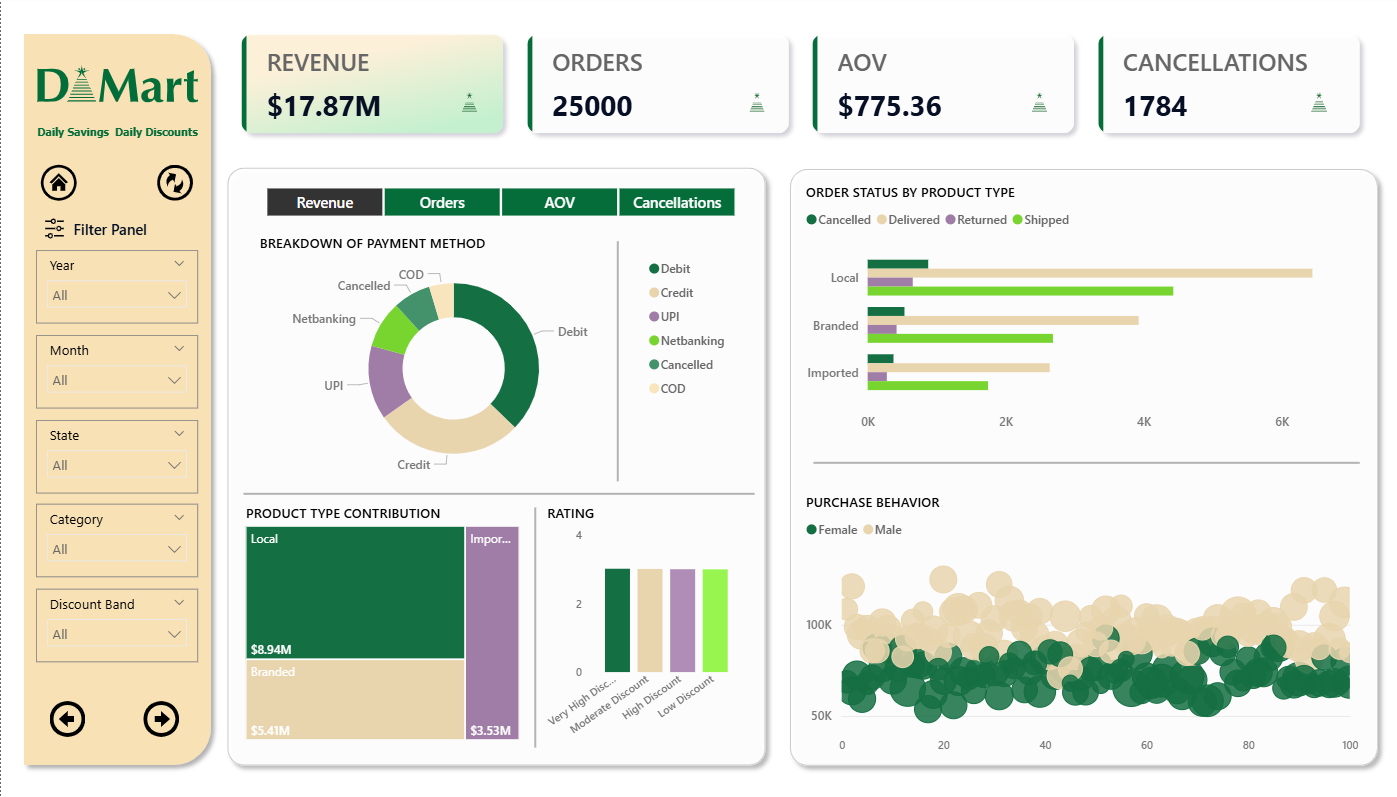

What the dashboard file says about the page in this screenshot:
{"tool":"powerbi","page":{"name":"Page 2","canvas":[1400,800],"ordinal":1},"visuals":[{"type":"shape","box":[13.5,25.5,205.6,750.4],"z":0},{"type":"image","box":[31.5,39,171.1,91.6],"z":1000},{"type":"textbox","box":[31.3,116.8,171.2,34],"z":2000},{"type":"shape","box":[218,159,557.1,616.9],"z":3000},{"type":"shape","box":[782,160,607,616],"z":4000},{"type":"clusteredColumnChart","title":"RATING","fields":{"Category":["Dmart+Dataset_Tableau (1).Discount Band"],"Y":["Avg(Dmart+Dataset_Tableau (1).Rating)"]},"box":[542.1,504.1,205.2,241.8],"z":5000},{"type":"scatterChart","title":"PURCHASE BEHAVIOR","fields":{"Y":["Sum(Dmart+Dataset_Tableau (1).Sales)"],"Size":["Avg(Dmart+Dataset_Tableau (1).Time Spent on Website)"],"X":["Dmart+Dataset_Tableau (1).No of Clicks"],"Series":["Dmart+Dataset_Tableau (1).Gender"]},"box":[802,494,564,270.4],"z":6000},{"type":"clusteredBarChart","title":"ORDER STATUS BY PRODUCT TYPE","fields":{"Category":["Dmart+Dataset_Tableau (1).Category"],"Series":["Dmart+Dataset_Tableau (1).Order Status"],"Y":["CountNonNull(Dmart+Dataset_Tableau (1).Order ID)"]},"box":[802,183,564,258.2],"z":7000},{"type":"donutChart","title":"BREAKDOWN OF PAYMENT METHOD","fields":{"Category":["Dmart+Dataset_Tableau (1).Payment Method"],"Y":["CountNonNull(Dmart+Dataset_Tableau (1).Order ID)"]},"box":[254.1,233.7,485.1,252.7],"z":8000},{"type":"treemap","title":"PRODUCT TYPE CONTRIBUTION","fields":{"Values":["Dmart+Dataset_Tableau (1).Revenue"],"Group":["Dmart+Dataset_Tableau (1).Category"]},"box":[240.5,504.1,284,241.8],"z":9000},{"type":"slicer","fields":{"Values":["Metrics.Metrics"]},"box":[239.9,181,518.8,41.6],"z":10000},{"type":"cardVisual","fields":{"Data":["Dmart+Dataset_Tableau (1).Revenue","Dmart+Dataset_Tableau (1).Orders","Dmart+Dataset_Tableau (1).AOV","Dmart+Dataset_Tableau (1).Cancellations"]},"box":[224,17.4,1157,133],"z":11000},{"type":"image","box":[455,88,29.9,29.9],"z":12000},{"type":"image","box":[743,88,29.9,29.9],"z":13000},{"type":"image","box":[1026,88,29.9,29.9],"z":14000},{"type":"image","box":[1306,88,28.5,29.9],"z":15000},{"type":"shape","box":[813.9,459.2,547.6,8.2],"z":16000},{"type":"shape","box":[528.5,508.2,13.6,240.5],"z":17000},{"type":"shape","box":[243.2,486.4,512.2,17.7],"z":18000},{"type":"shape","box":[611.4,241.8,13.6,240.5],"z":19000},{"type":"image","box":[34.9,160.9,45.6,45.6],"z":20000},{"type":"image","box":[151.5,160.9,45.6,45.6],"z":21000},{"type":"image","box":[44.2,697.1,45.6,45.6],"z":22000},{"type":"image","box":[138.1,697.1,45.6,45.6],"z":23000},{"type":"slicer","fields":{"Values":["Dmart+Dataset_Tableau (1).Year"]},"box":[34.9,250.7,162.2,73.7],"z":24000},{"type":"slicer","fields":{"Values":["Dmart+Dataset_Tableau (1).Month"]},"box":[34.9,335.1,162.2,73.7],"z":25000},{"type":"slicer","fields":{"Values":["Dmart+Dataset_Tableau (1).Category"]},"box":[34.9,505,162.2,73.7],"z":26000},{"type":"slicer","fields":{"Values":["Dmart+Dataset_Tableau (1).State"]},"box":[34.9,420.9,162.2,73.7],"z":27000},{"type":"slicer","fields":{"Values":["Dmart+Dataset_Tableau (1).Discount Band"]},"box":[34.9,590,162.2,73.7],"z":28000},{"type":"textbox","box":[67,214.5,107.2,36.2],"z":29000},{"type":"image","box":[38.9,214.5,29.5,29.5],"z":30000}]}

Visuals, with their boxes in screenshot pixels (x1, y1, x2, y2), scaled from the page's 1400x800 canvas onto the 1397x797 screenshot:
shape: crop(13, 25, 219, 773)
image: crop(31, 39, 202, 130)
textbox: crop(31, 116, 202, 150)
shape: crop(218, 158, 773, 773)
shape: crop(780, 159, 1386, 773)
"RATING" clusteredColumnChart: crop(541, 502, 746, 743)
"PURCHASE BEHAVIOR" scatterChart: crop(800, 492, 1363, 762)
"ORDER STATUS BY PRODUCT TYPE" clusteredBarChart: crop(800, 182, 1363, 440)
"BREAKDOWN OF PAYMENT METHOD" donutChart: crop(254, 233, 738, 485)
"PRODUCT TYPE CONTRIBUTION" treemap: crop(240, 502, 523, 743)
slicer - Metrics.Metrics: crop(239, 180, 757, 222)
cardVisual - Dmart+Dataset_Tableau (1).Revenue x Dmart+Dataset_Tableau (1).Orders: crop(224, 17, 1378, 150)
image: crop(454, 88, 484, 117)
image: crop(741, 88, 771, 117)
image: crop(1024, 88, 1054, 117)
image: crop(1303, 88, 1332, 117)
shape: crop(812, 457, 1359, 466)
shape: crop(527, 506, 541, 746)
shape: crop(243, 485, 754, 502)
shape: crop(610, 241, 624, 480)
image: crop(35, 160, 80, 206)
image: crop(151, 160, 197, 206)
image: crop(44, 694, 90, 740)
image: crop(138, 694, 183, 740)
slicer - Dmart+Dataset_Tableau (1).Year: crop(35, 250, 197, 323)
slicer - Dmart+Dataset_Tableau (1).Month: crop(35, 334, 197, 407)
slicer - Dmart+Dataset_Tableau (1).Category: crop(35, 503, 197, 577)
slicer - Dmart+Dataset_Tableau (1).State: crop(35, 419, 197, 493)
slicer - Dmart+Dataset_Tableau (1).Discount Band: crop(35, 588, 197, 661)
textbox: crop(67, 214, 174, 250)
image: crop(39, 214, 68, 243)
